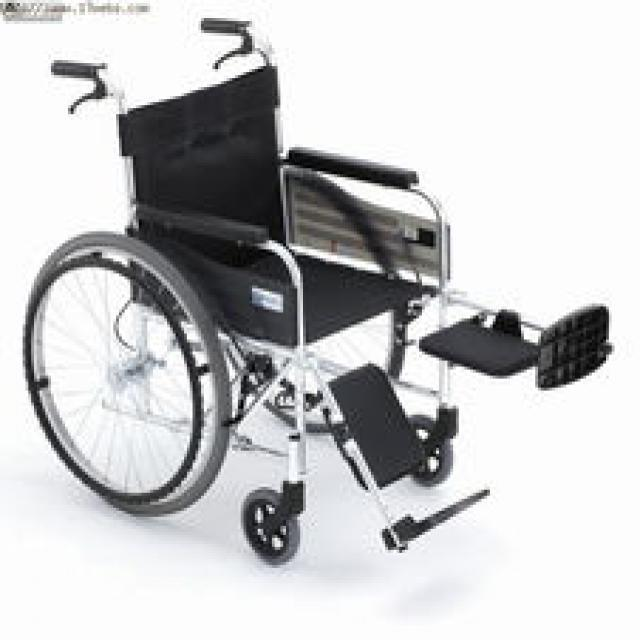wheelchair: (14, 18, 637, 562)
